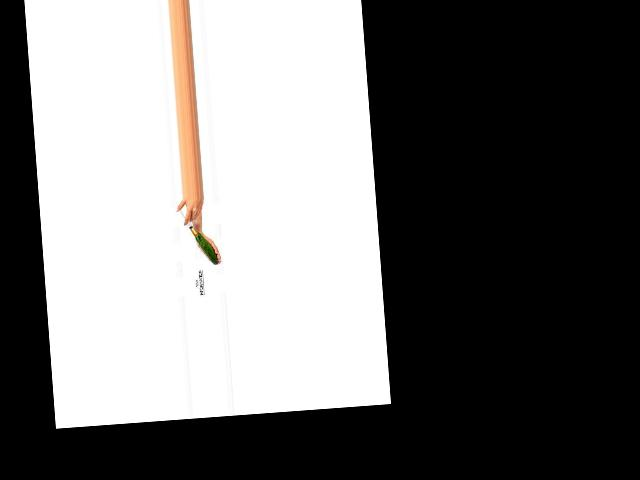cucumber: (194, 231, 218, 265)
